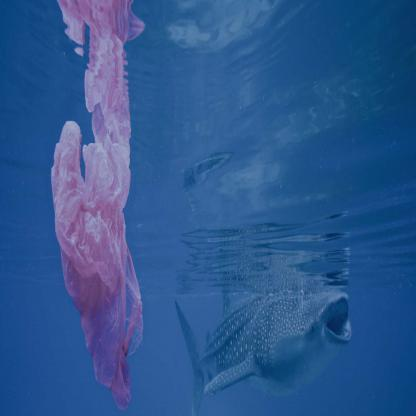Rác: (56, 44, 145, 396)
